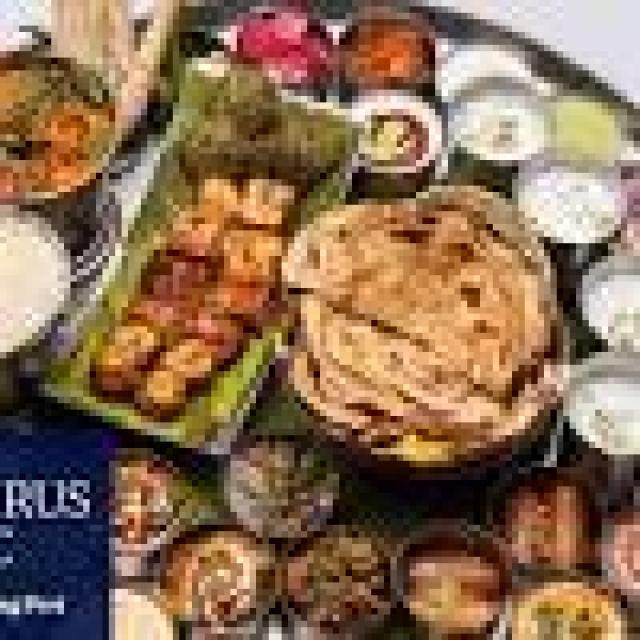dal: (3, 203, 81, 356), (497, 577, 632, 636), (106, 591, 178, 639)
raita: (564, 359, 638, 462), (575, 257, 638, 364)
rice: (272, 521, 409, 635), (566, 364, 639, 465)
roti: (277, 186, 586, 461)
sweet: (385, 538, 507, 633), (352, 88, 446, 185)
veg-fry: (1, 52, 127, 223)
